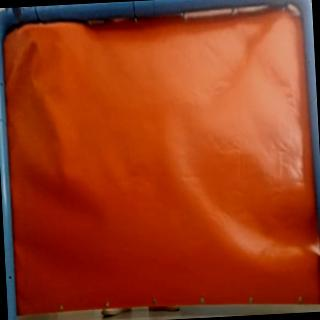Hit-hRxx: (29, 36, 40, 46)
